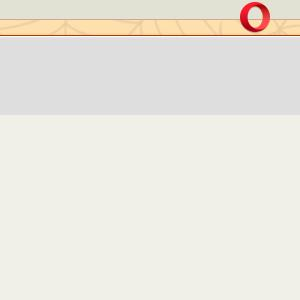opera: (240, 2, 270, 33)
